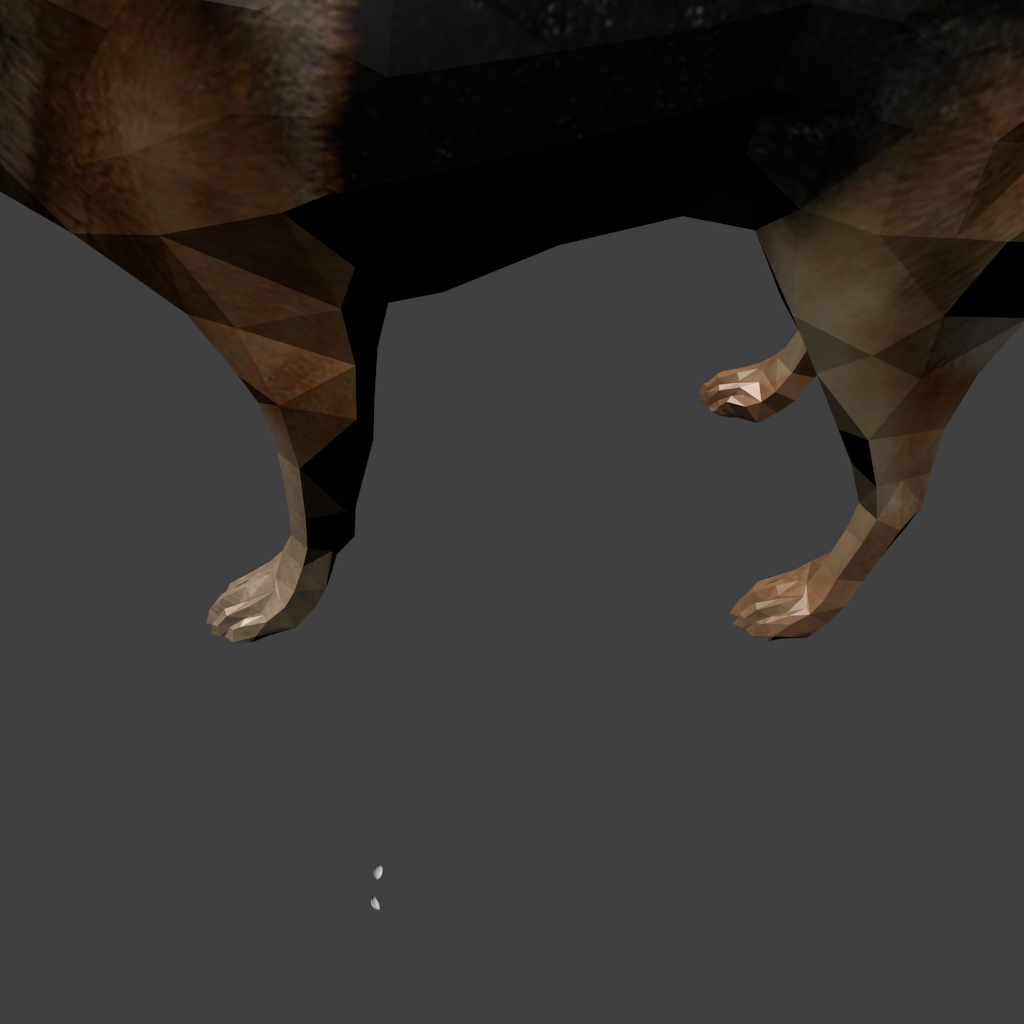Dog: (0, 0, 1024, 1024), (0, 0, 1024, 642)
